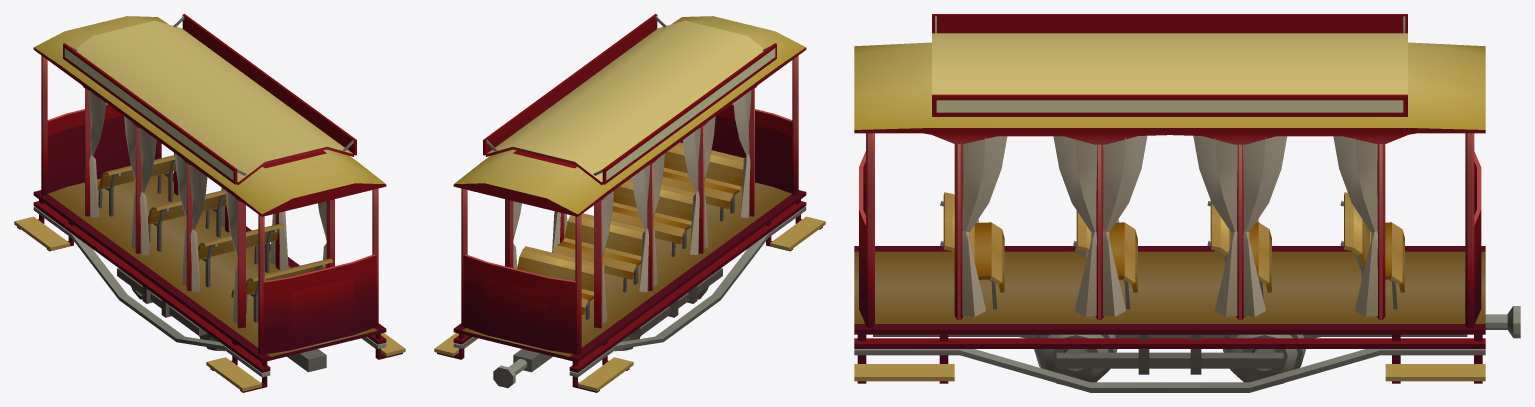
The model's file is SM_Tramway_Wagon_01.fbx.
3 renders of one model, left to right at view 1: azimuth 30°, elevation 25°; view 2: azimuth 150°, elevation 25°; view 3: azimuth 270°, elevation 25°, orthographic. The views are drawn at different scales.
Parts seen in each view (by area): view 1: SM_Tramway_Wagon_01; view 2: SM_Tramway_Wagon_01; view 3: SM_Tramway_Wagon_01.
Boxes of the visible parts, x1,y1,x2,y2 form: SM_Tramway_Wagon_01: (14, 14, 405, 392); SM_Tramway_Wagon_01: (434, 14, 825, 392); SM_Tramway_Wagon_01: (854, 14, 1520, 392).
Bounding box in the file's own units: 2.62 × 3.48 × 6.72.
